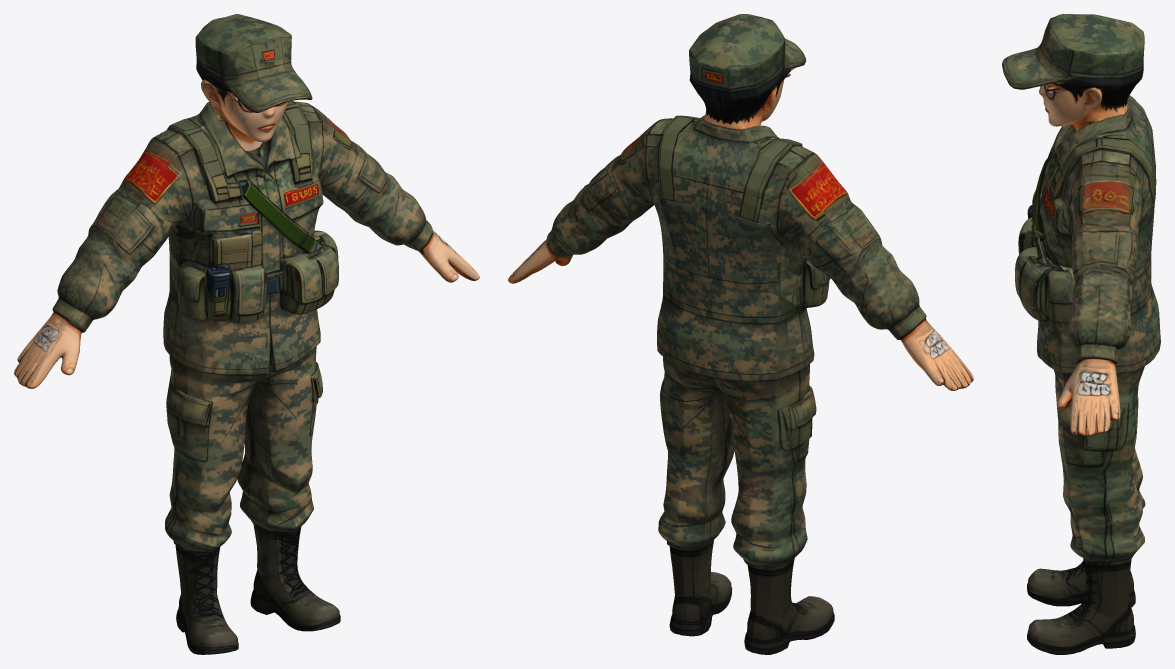
3 views of the same model, side by side, from view 1: azimuth 30°, elevation 25°; view 2: azimuth 150°, elevation 25°; view 3: azimuth 270°, elevation 25° (orthographic).
Visible parts, largest first — view 1: input; view 2: input; view 3: input.
Part boxes in pixels (x1,y1,x2,y2): input: [14, 14, 479, 654]; input: [508, 14, 973, 654]; input: [1002, 14, 1160, 654].
Size of the model in its own units: 0.791 by 0.9998 by 0.2394.
Materials: 1 (1 with a texture image).
